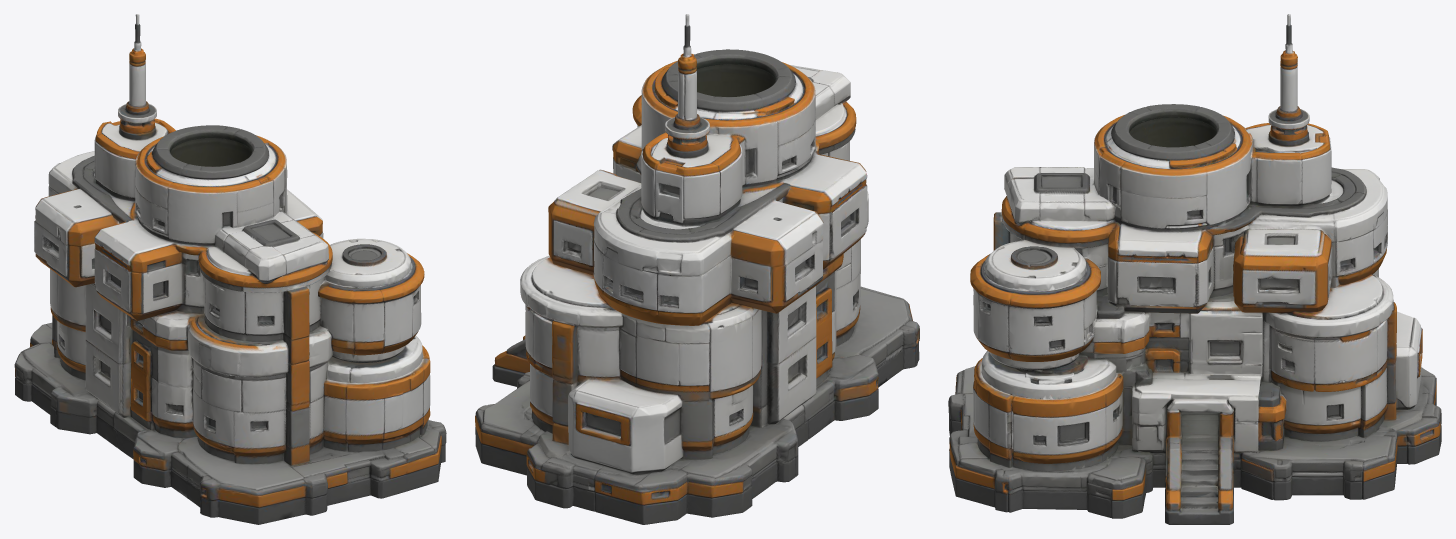
Rendered from habStack.glb.
The picture shows the model from 3 angles, left to right: view 1: azimuth 30°, elevation 25°; view 2: azimuth 150°, elevation 25°; view 3: azimuth 270°, elevation 25°; orthographic projection. The views are drawn at different scales.
Visible parts, largest first — view 1: tripo_node_4facc5ef-bc6e-4a0c-9102-e0cc3ce64ad4; view 2: tripo_node_4facc5ef-bc6e-4a0c-9102-e0cc3ce64ad4; view 3: tripo_node_4facc5ef-bc6e-4a0c-9102-e0cc3ce64ad4.
Boxes of the visible parts, x1,y1,x2,y2 form: tripo_node_4facc5ef-bc6e-4a0c-9102-e0cc3ce64ad4: (14, 14, 446, 524); tripo_node_4facc5ef-bc6e-4a0c-9102-e0cc3ce64ad4: (475, 14, 919, 524); tripo_node_4facc5ef-bc6e-4a0c-9102-e0cc3ce64ad4: (948, 14, 1441, 524).
Size of the model in its own units: 0.7253 by 0.9146 by 1.
1 material, 1 textured.
